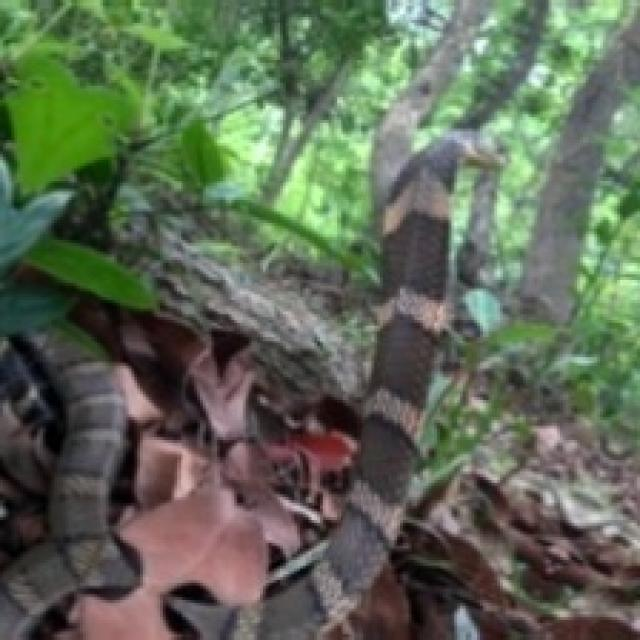king cobra: (0, 137, 489, 637)
